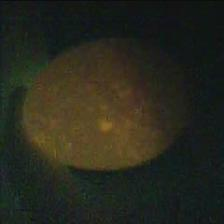fertile: (17, 34, 200, 172)
